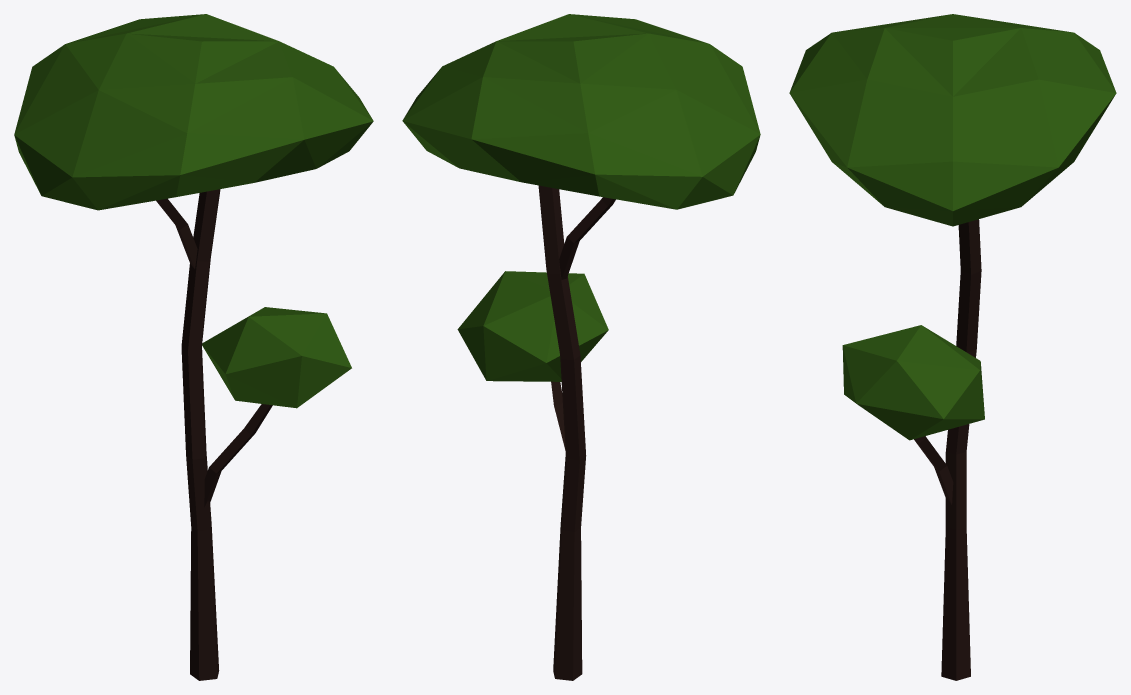
The model's file is SM_tree_c_05.FBX.
The picture shows the model from 3 angles, left to right: view 1: azimuth 30°, elevation 25°; view 2: azimuth 150°, elevation 25°; view 3: azimuth 270°, elevation 25°; orthographic projection.
Visible parts, largest first — view 1: Object039; view 2: Object039; view 3: Object039.
Boxes of the visible parts, x1,y1,x2,y2 form: Object039: (14,14,373,680); Object039: (402,14,760,680); Object039: (789,14,1116,680).
Bounding box in the file's own units: 391 × 747 × 351.
